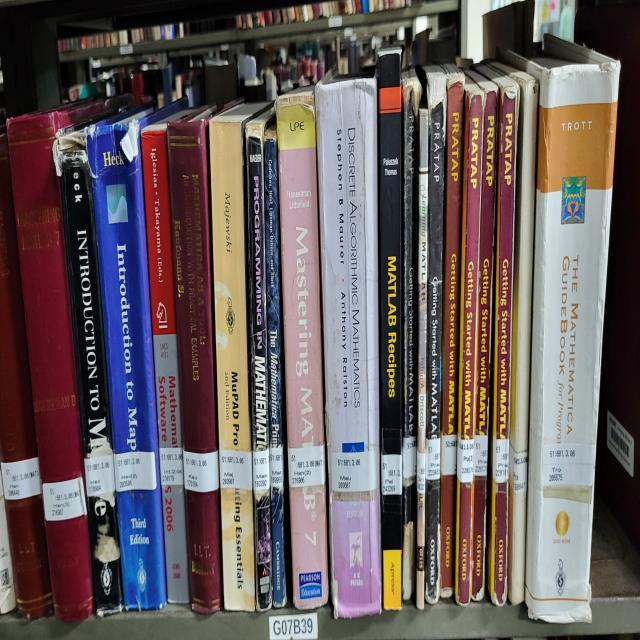Book: (498, 38, 620, 622), (8, 97, 129, 620), (88, 108, 170, 609), (315, 76, 381, 617), (54, 130, 122, 614), (168, 106, 222, 614), (276, 100, 329, 609), (0, 127, 52, 617), (209, 106, 258, 611), (141, 119, 189, 603), (480, 65, 518, 606), (502, 68, 539, 606), (416, 65, 446, 609), (470, 70, 498, 601), (455, 81, 482, 606), (245, 108, 272, 609), (378, 46, 402, 609), (440, 65, 465, 598), (264, 124, 286, 609), (401, 70, 421, 601), (416, 106, 429, 609)
Label: (542, 444, 595, 487), (42, 476, 86, 522), (331, 452, 378, 492), (1, 457, 41, 501), (114, 452, 156, 492), (288, 444, 325, 487), (184, 449, 219, 492), (84, 452, 115, 498), (219, 449, 252, 490), (159, 446, 184, 484), (509, 446, 528, 492), (456, 436, 474, 484), (381, 455, 402, 495), (492, 438, 509, 484), (252, 449, 270, 492), (441, 433, 458, 476), (402, 436, 416, 484), (270, 446, 284, 490), (425, 438, 440, 479), (474, 436, 488, 476)
